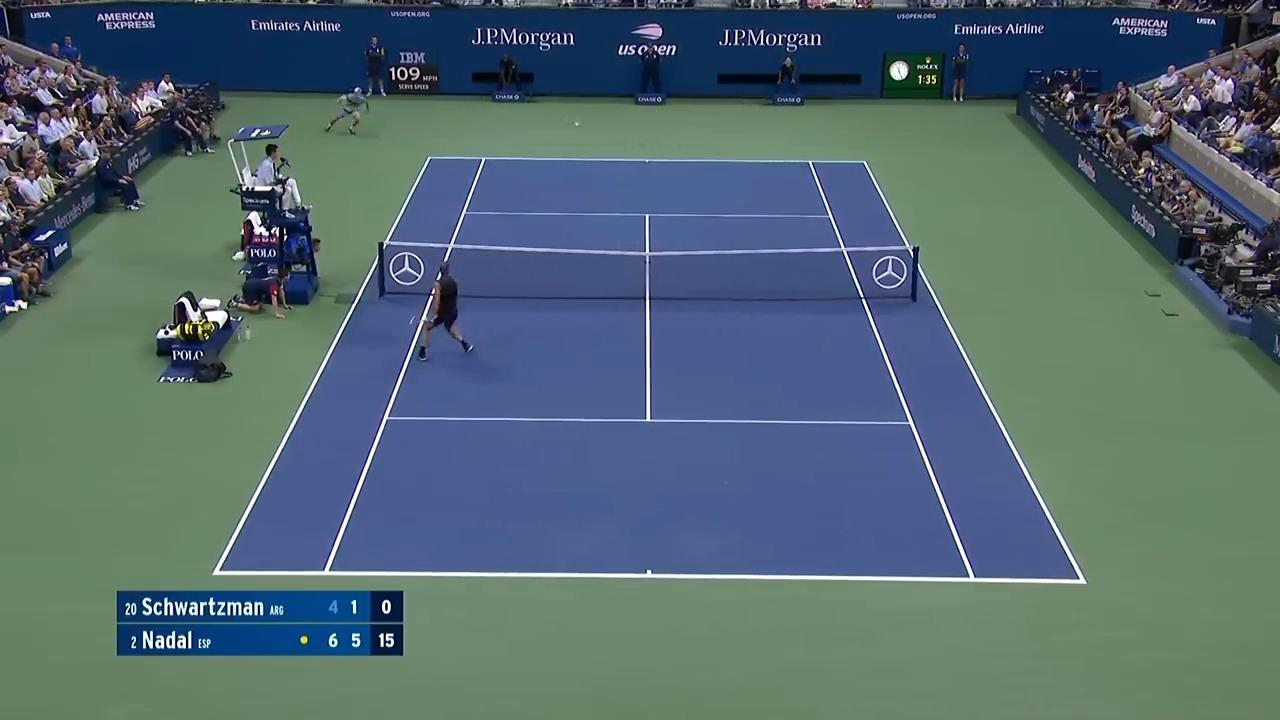tennis ball: (564, 117, 583, 127)
